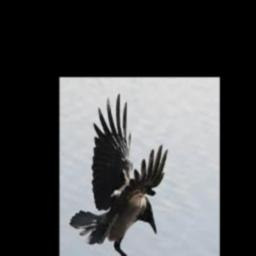Crow: (69, 93, 167, 256)
